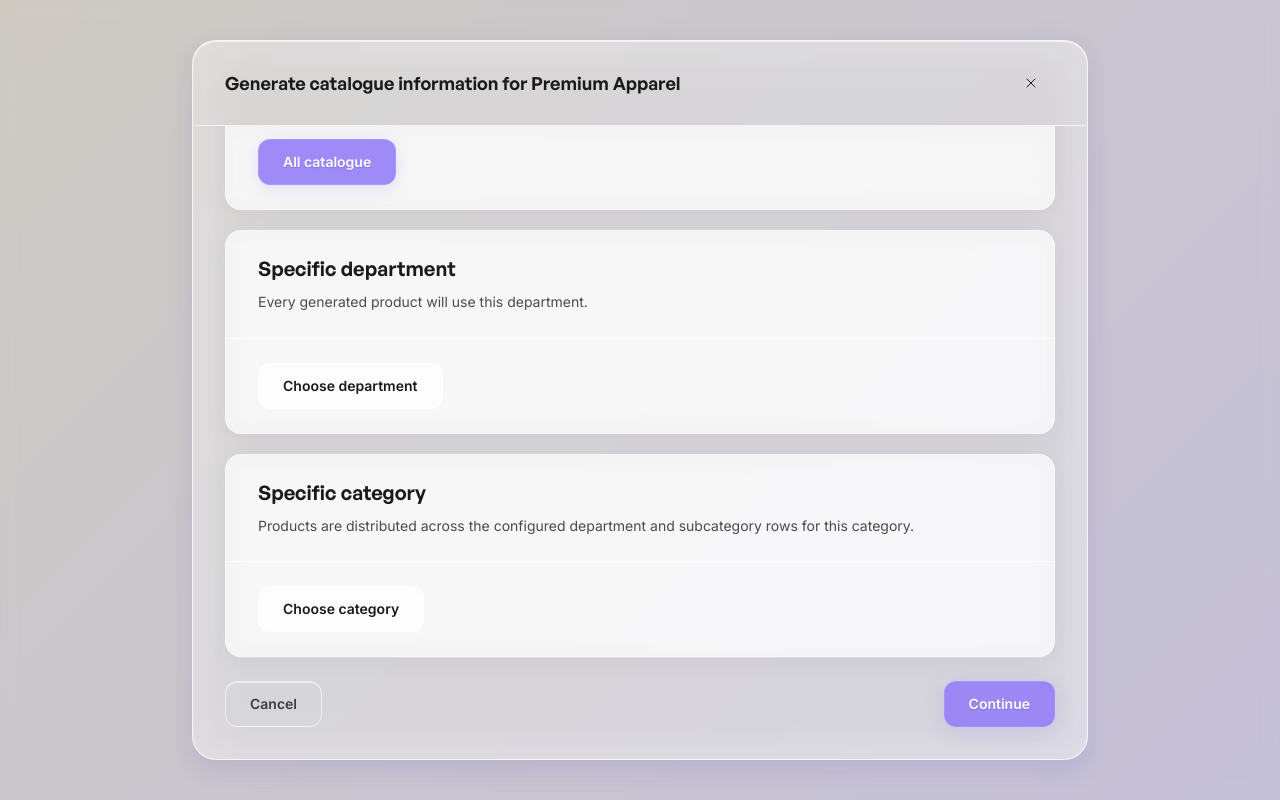
Test case: AddProductsModal scope selection › selects the first eligible category and enables Continue
(page scrolled)
Click the button "Choose category".
click(341, 609)  # box left=258, top=586, right=424, bottom=632
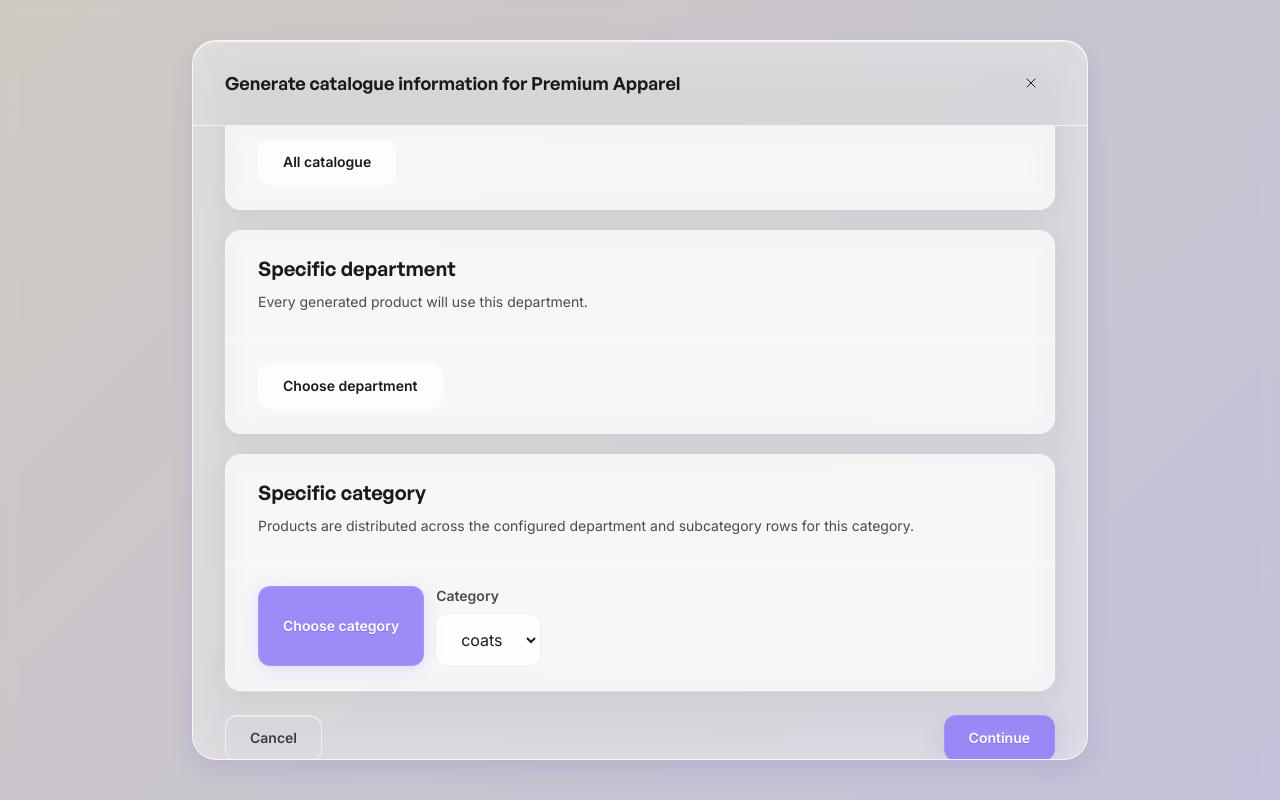
Expected: the button "Continue" is enabled, left=944, top=715, right=1055, bottom=759
Expected: the dropdown labelled "Category" shows "coats", left=436, top=614, right=540, bottom=666
